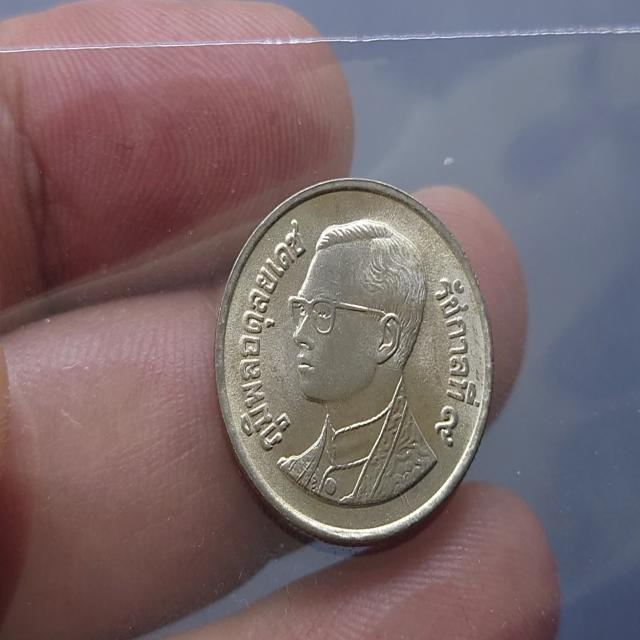1 Bath: (212, 172, 499, 552)
